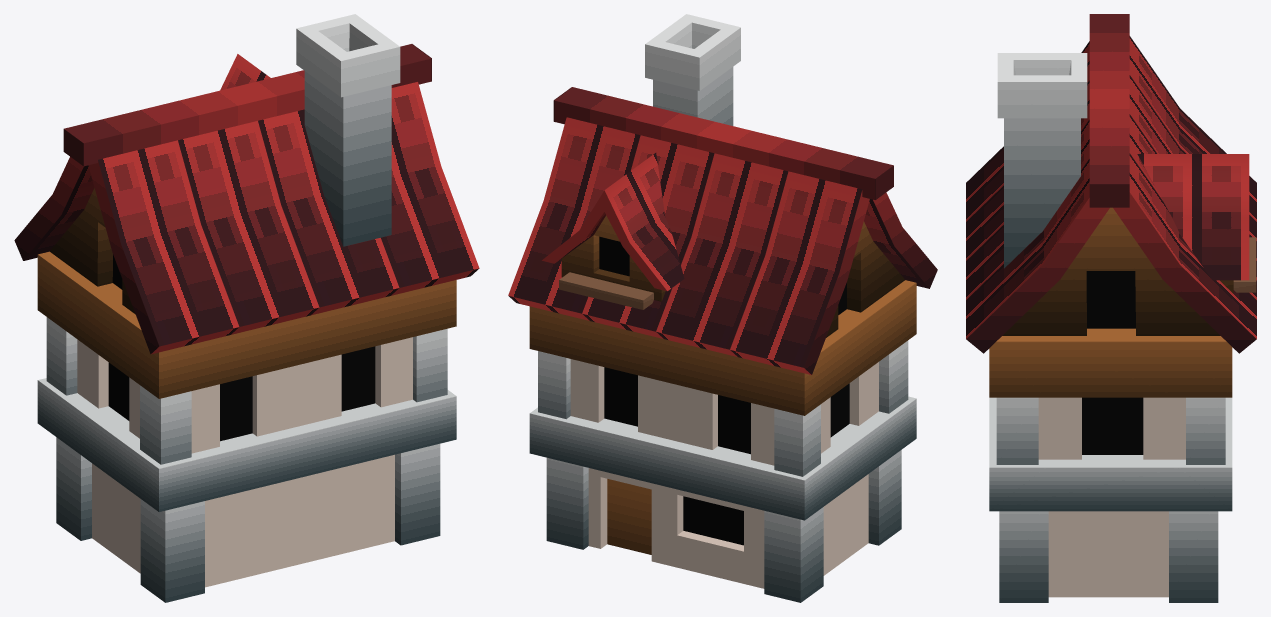
The model's file is house_lvl6.fbx.
3 views of the same model, side by side, from view 1: azimuth 30°, elevation 25°; view 2: azimuth 150°, elevation 25°; view 3: azimuth 270°, elevation 25° (orthographic). The views are drawn at different scales.
Visible parts, largest first — view 1: house_lvl6; view 2: house_lvl6; view 3: house_lvl6.
Boxes of the visible parts, left/top/right/bottom form: house_lvl6: left=14, top=14, right=479, bottom=602; house_lvl6: left=508, top=14, right=937, bottom=602; house_lvl6: left=966, top=14, right=1256, bottom=602.
Size of the model in its own units: 1256 by 1721 by 905.
